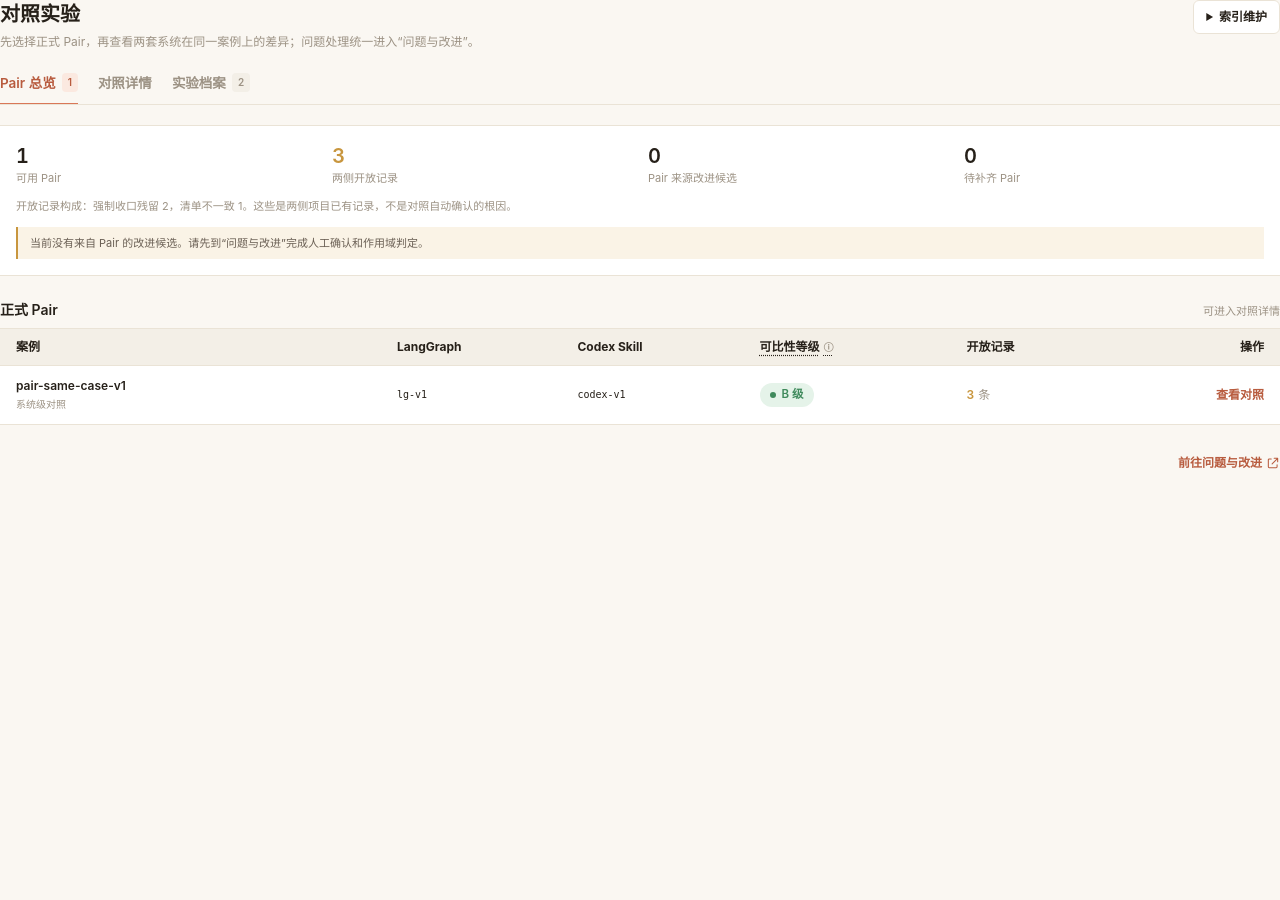
Test: ExperimentsPage › renders formal pair without inventing a Shared Kernel candidate
This screenshot has width=1280, height=900.
Expected: the text "pair-same-case-v1" is shown, [16,378,126,393]
Expected: the text "可比性等级" is shown, [760,339,820,354]
Hover over the button named "了解 B 级可比性" at (786, 395), box [760,383,814,407]
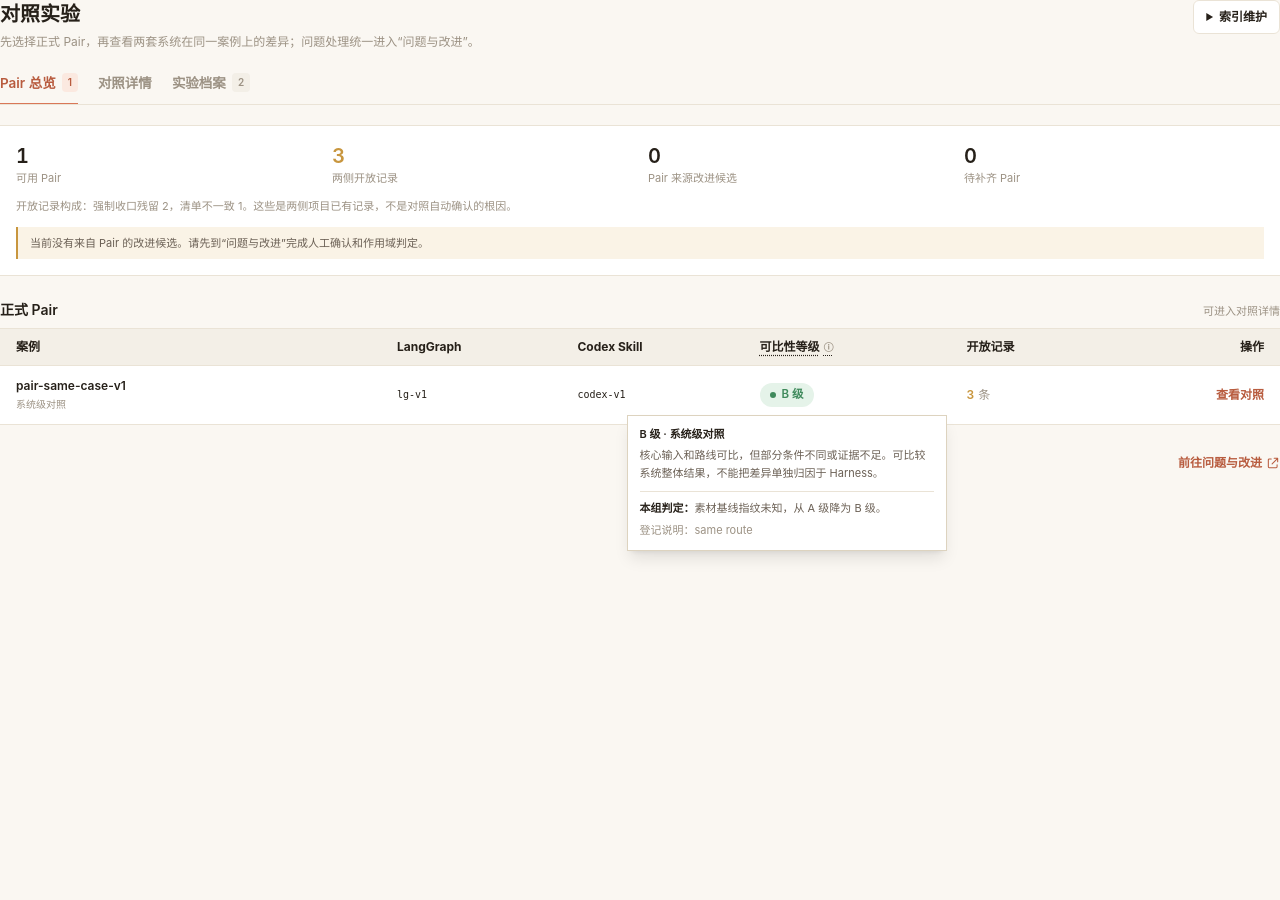
Expected: the tooltip shows "素材基线指纹未知，从 A 级降为 B 级", [694,501,876,515]
Expected: the tooltip shows "不能把差异单独归因于 Harness", [640,448,926,480]
Move the pointer off the button named "了解 B 级可比性", box [760,383,814,407]
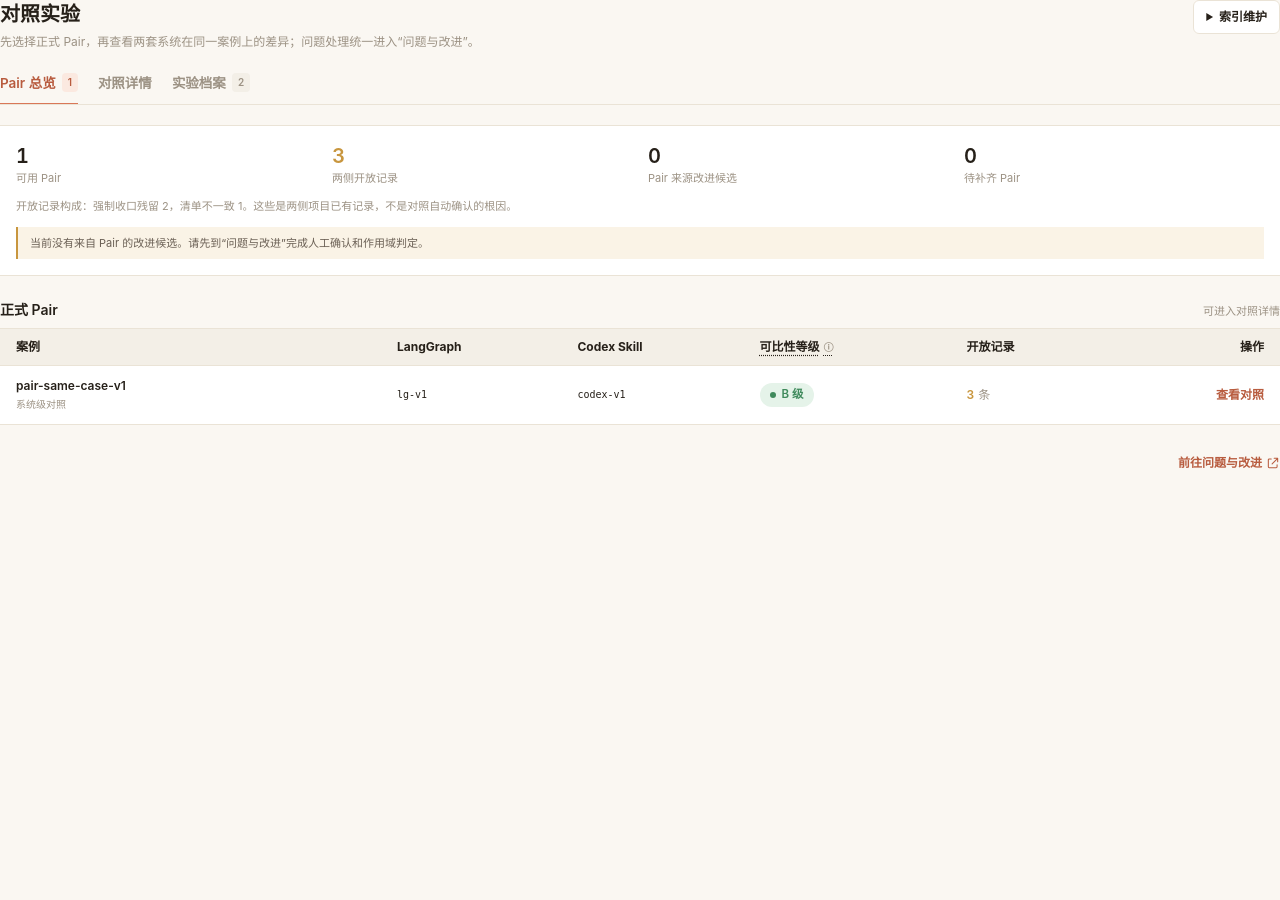
Focus the button with aria-label "了解可比性等级" at (796, 347), box [760,339,834,355]
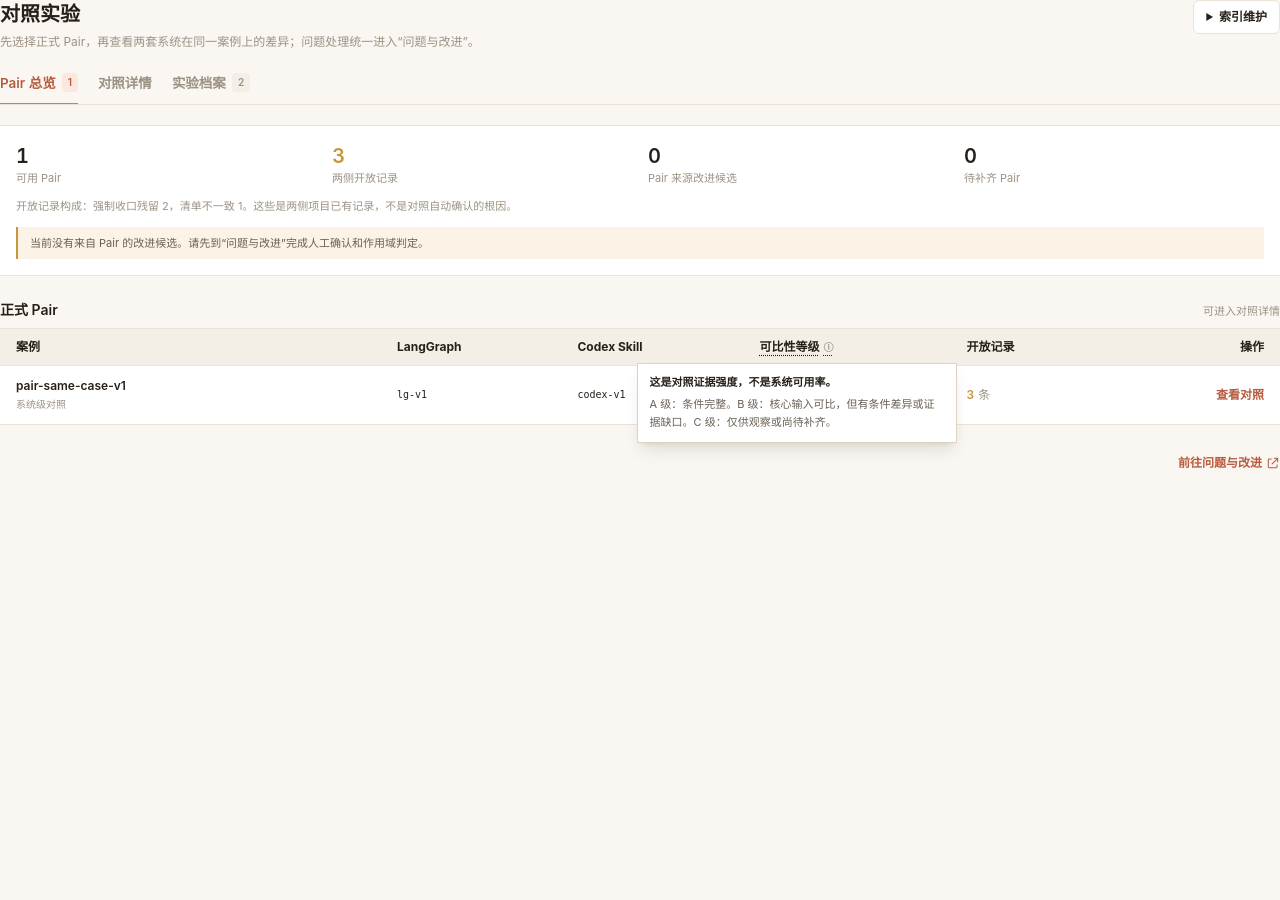
Expected: the text "两侧开放记录" is shown, [332,171,398,185]
Expected: the tooltip shows "不是系统可用率", [650,375,836,389]
Click the button "查看对照" at (1240, 395), box [1216,387,1264,403]
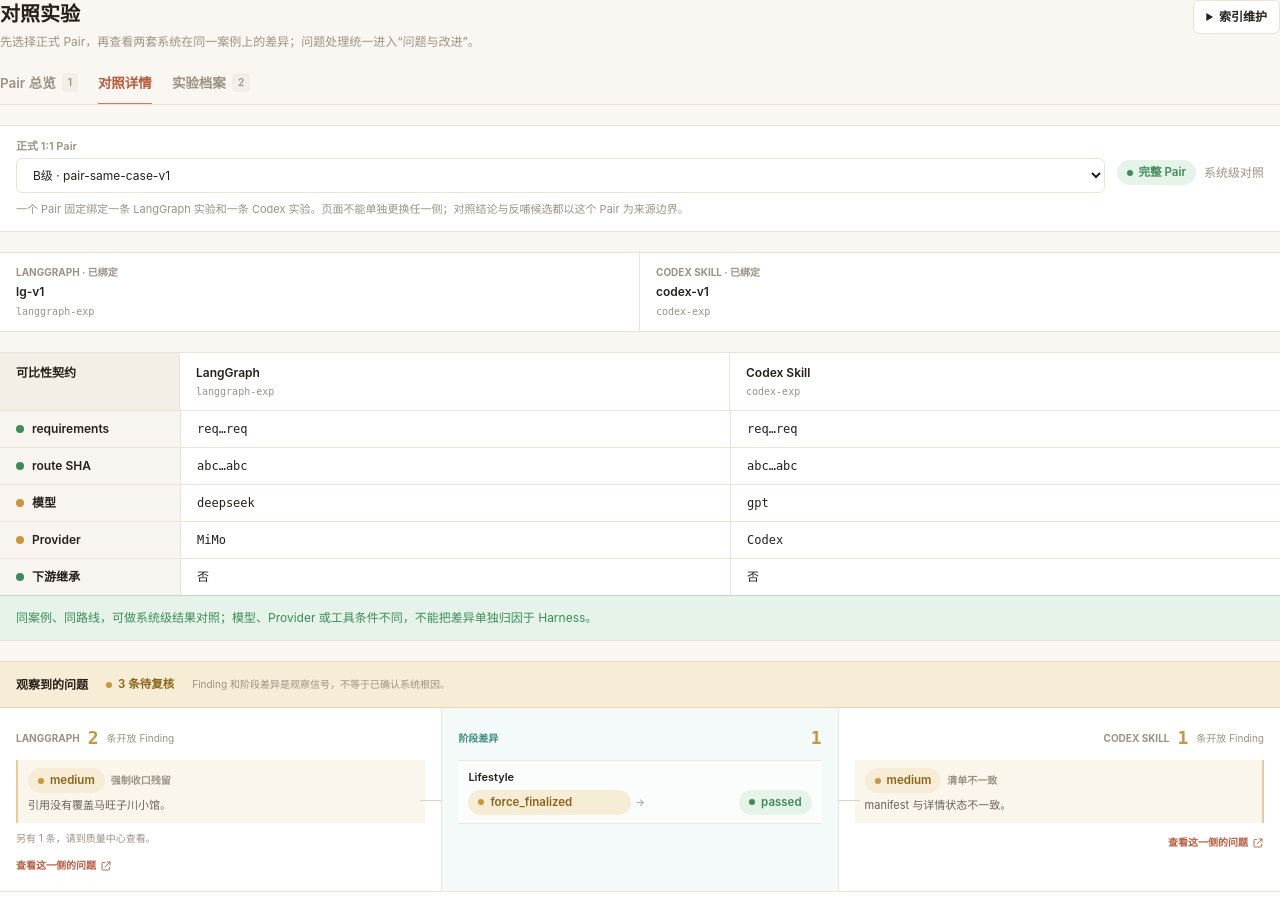
Expected: the text "引用没有覆盖马旺子川小馆。" is shown, [28,798,171,812]
Expected: the text "manifest 与详情状态不一致。" is shown, [865,798,1011,812]
Expected: the text "force_finalized" is shown, [468,790,631,815]
